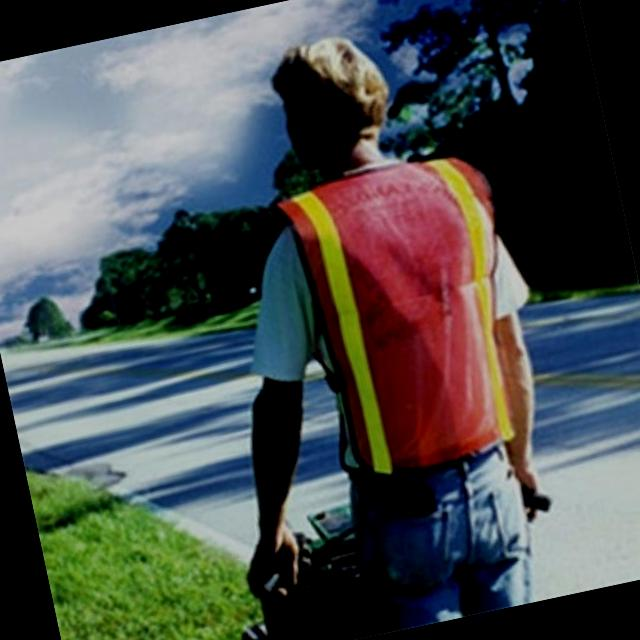no-gloves: (222, 506, 324, 622)
no-helmet: (240, 4, 407, 182)
vest: (283, 133, 538, 500)
